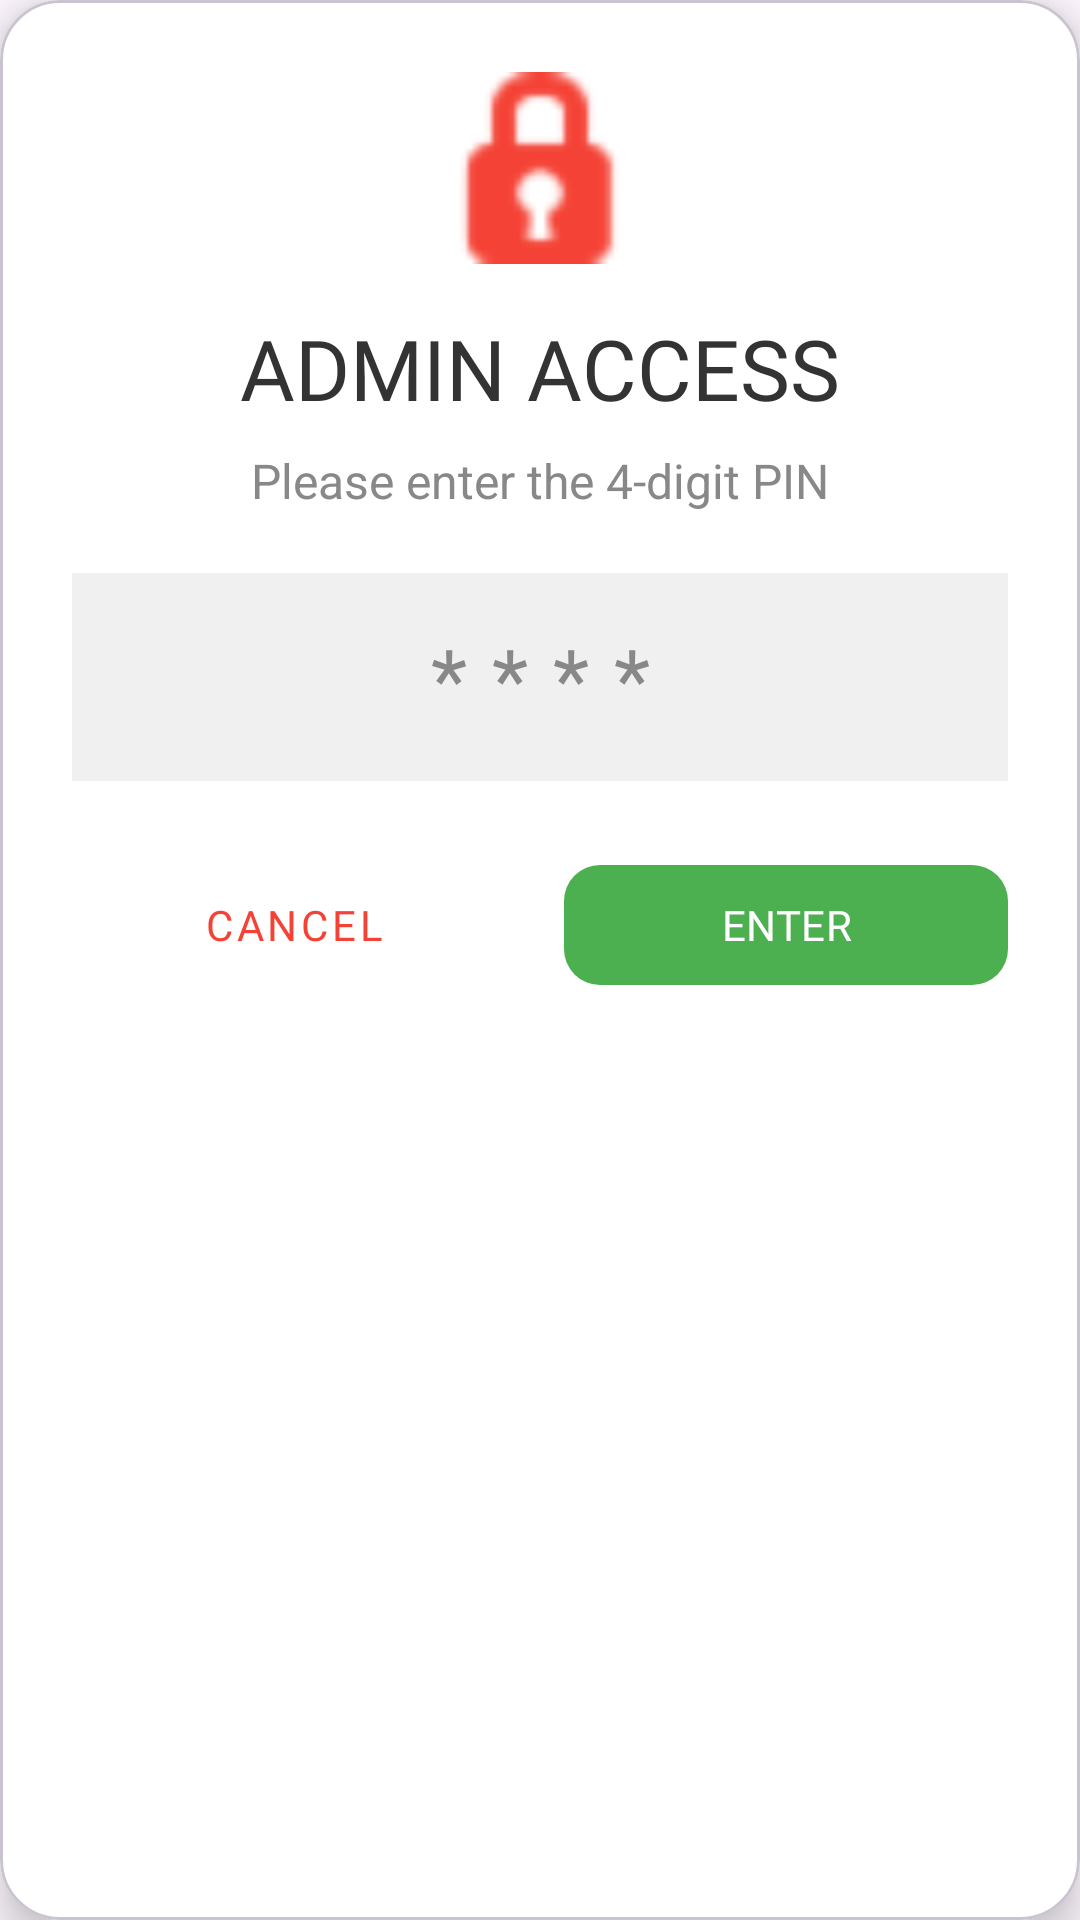

Where to tap for icons on this 1080px×1920px app screen, as point (x, y):
secure: point (539, 168)
